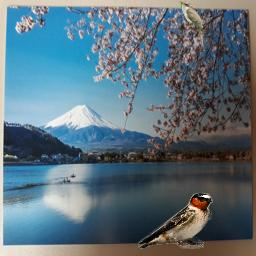Cuckoo: (178, 0, 206, 52)
Swallow: (137, 192, 213, 249)
